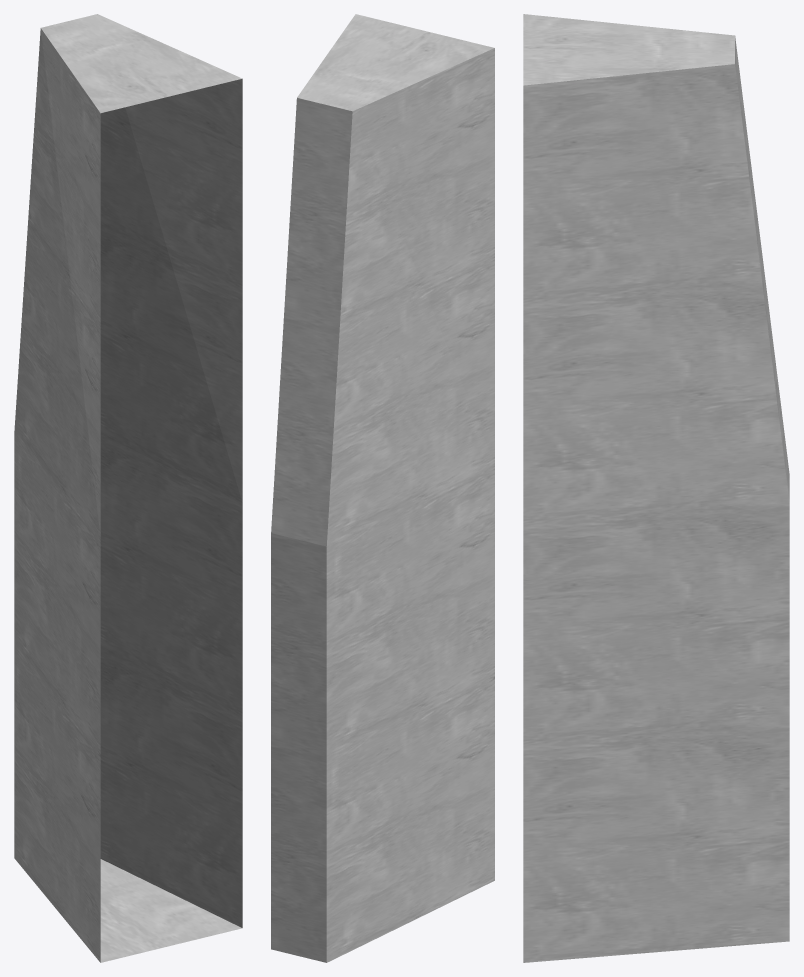
File: cd-end-1.fbx
3 renders of one model, left to right at view 1: azimuth 30°, elevation 25°; view 2: azimuth 150°, elevation 25°; view 3: azimuth 270°, elevation 25°, orthographic. The views are drawn at different scales.
Parts seen in each view (by area): view 1: cb-end-1; view 2: cb-end-1; view 3: cb-end-1.
Part boxes in pixels (x1,y1,x2,y2): cb-end-1: (14, 14, 242, 962); cb-end-1: (271, 14, 494, 962); cb-end-1: (523, 14, 789, 962).
Bounding box in the file's own units: 70 × 400 × 110.
